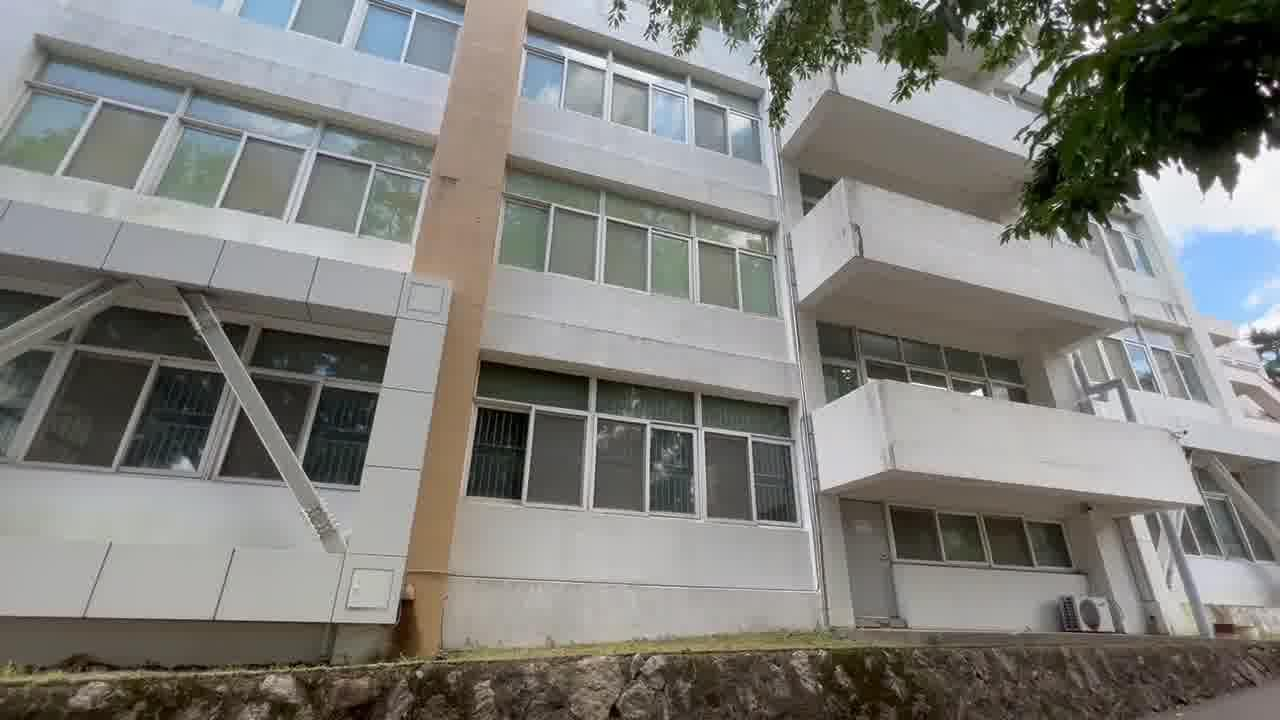building: (0, 0, 1074, 616)
